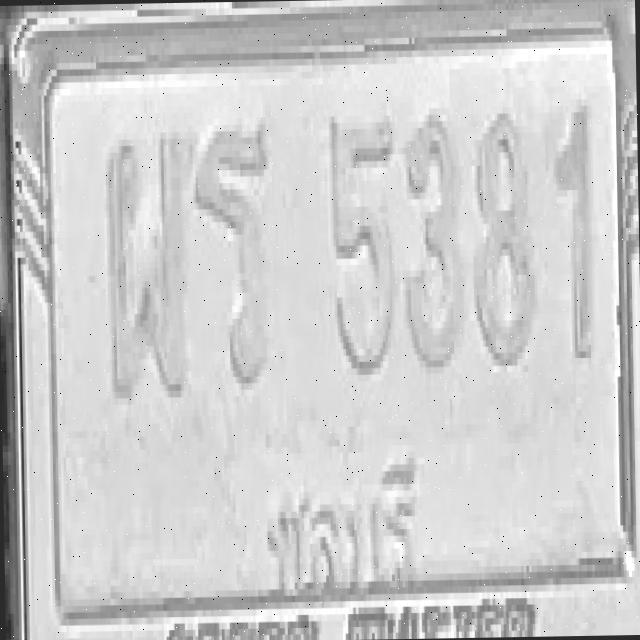1: (550, 99, 594, 358)
3: (400, 104, 464, 370)
37PhorPhueng: (104, 125, 190, 398)
44RorRuea: (192, 120, 272, 387)
5: (325, 109, 396, 375)
8: (470, 103, 536, 363)
Chonburi: (264, 451, 430, 603)
